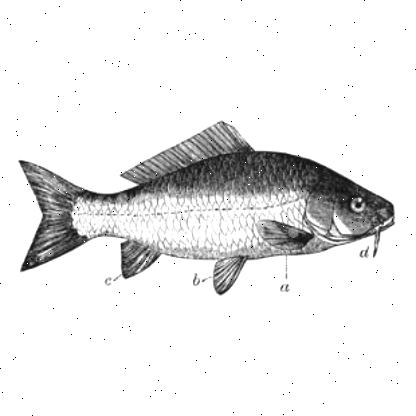ikan-mas: (15, 120, 392, 288)
